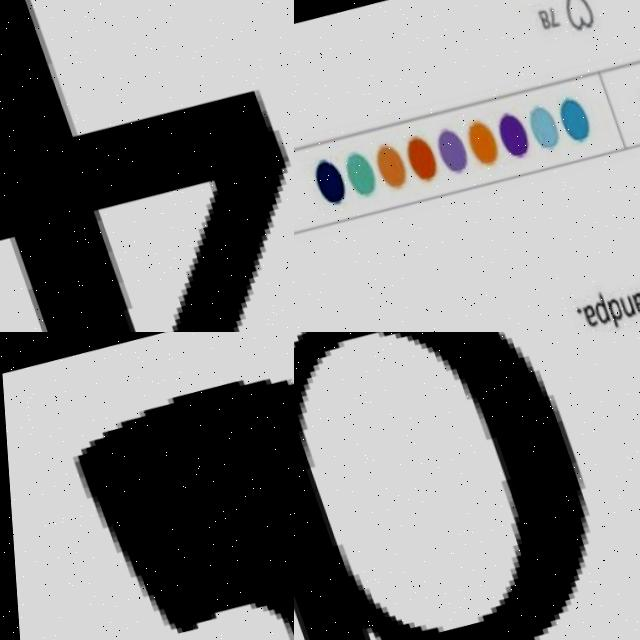7: (543, 3, 560, 26)
8: (536, 6, 550, 28)
C: (69, 373, 294, 640)
D: (294, 332, 640, 640)
